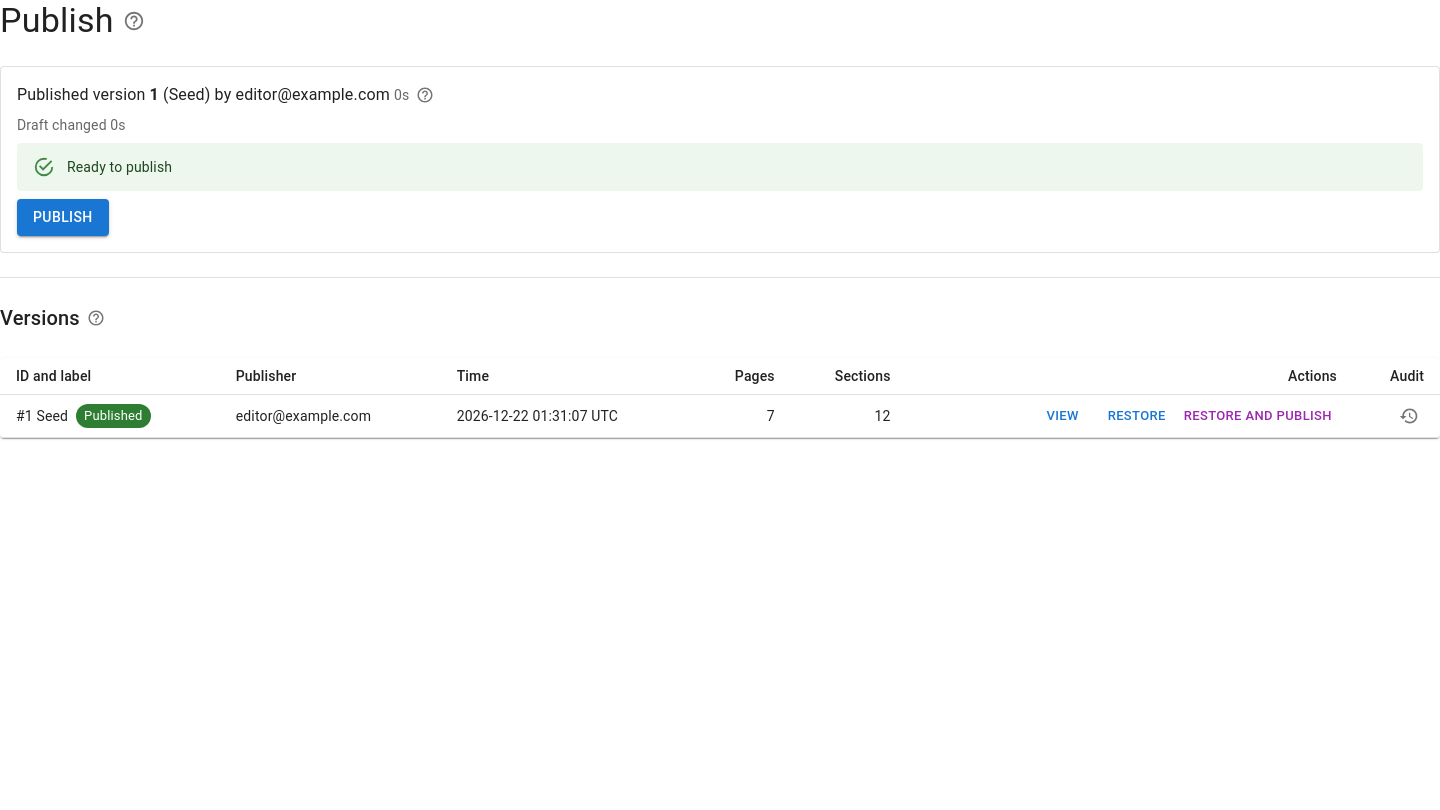
Test: Publish: publish action › shows 'Nothing to publish' when the API returns 409 content_unchanged
Click the button with test id "publish-button" at {"x": 63, "y": 217}, box left=17, top=199, right=109, bottom=236
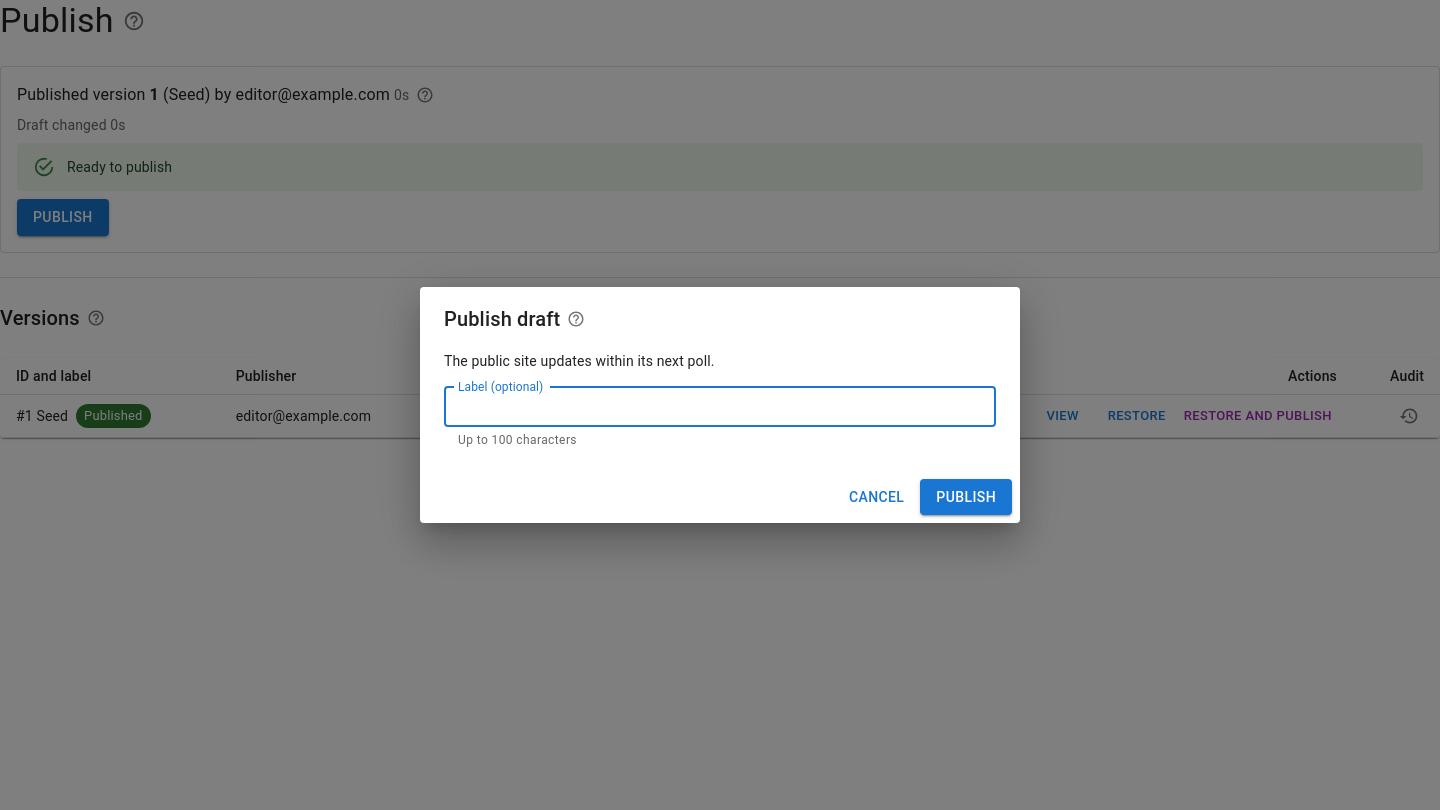
Click the button "Publish" at {"x": 966, "y": 497}, box left=920, top=479, right=1012, bottom=515
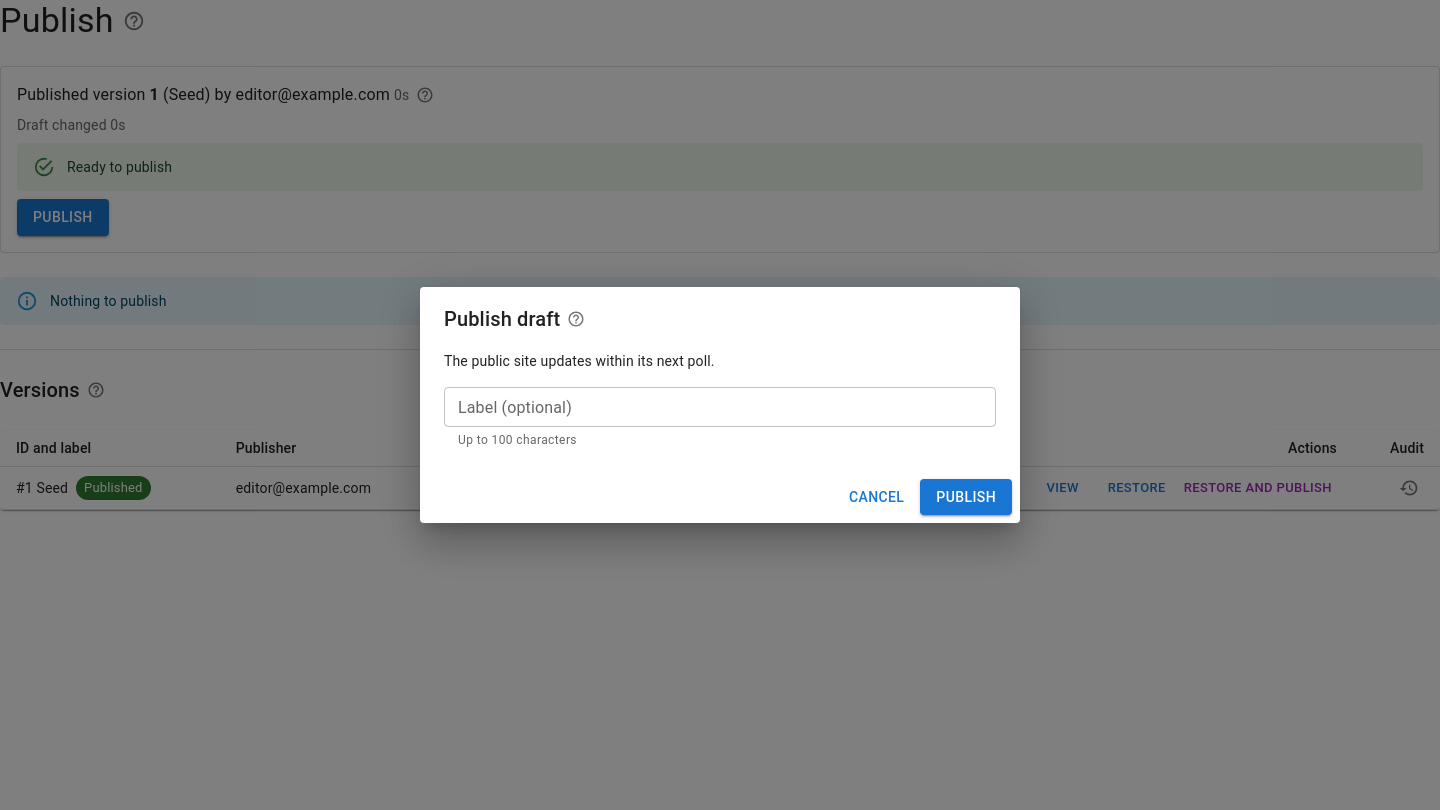
Result: the message "Nothing to publish" is shown at left=0, top=276, right=1439, bottom=324
